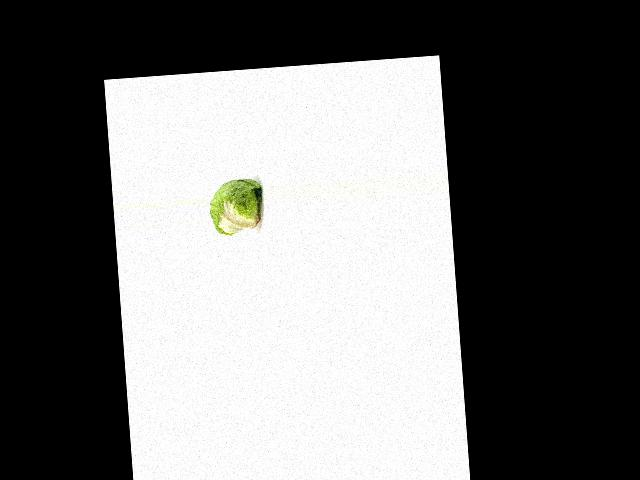lettuce: (207, 176, 267, 238)
